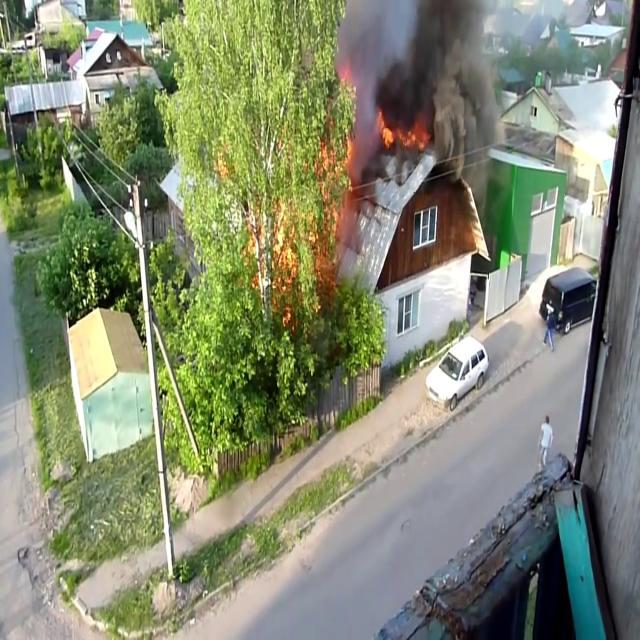Fire: (378, 108, 430, 154)
Smoke: (338, 1, 510, 199)
